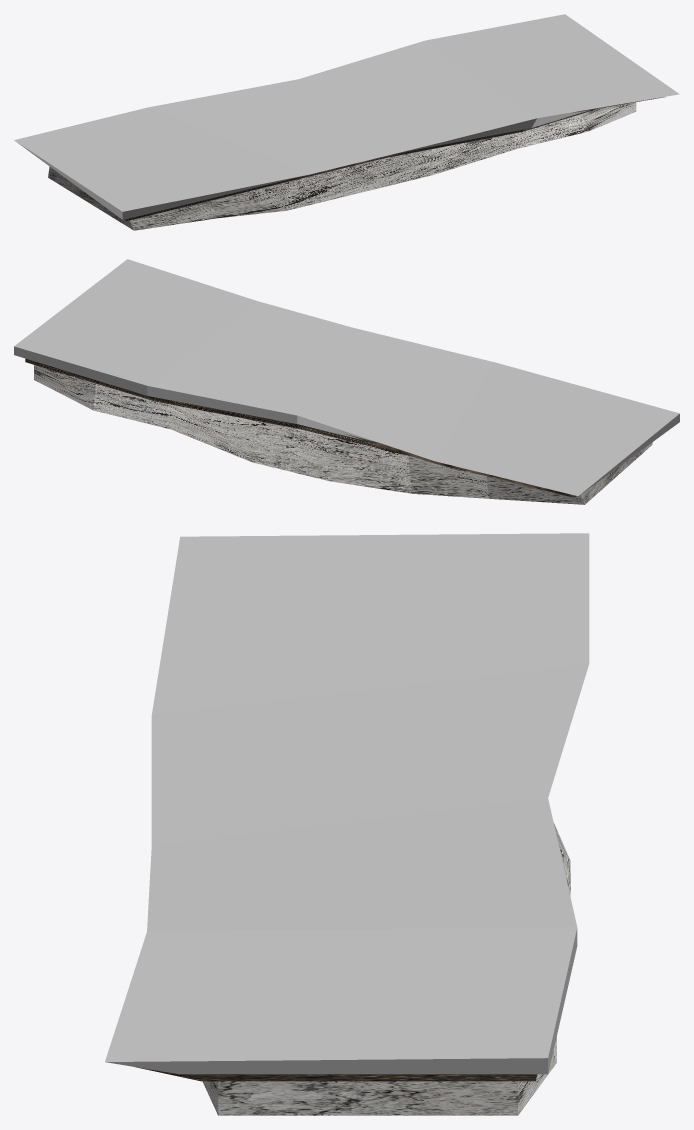
Rendered from platform.fbx.
3 renders of one model, top to bottom at view 1: azimuth 30°, elevation 25°; view 2: azimuth 150°, elevation 25°; view 3: azimuth 270°, elevation 25°, orthographic. The views are drawn at different scales.
Visible parts, largest first — view 1: Kostka, Cube, Kostka.001; view 2: Kostka, Cube, Kostka.001; view 3: Kostka, Cube, Kostka.001.
Part boxes in pixels (x1,y1,x2,y2): Kostka: [14, 14, 679, 219]; Cube: [48, 102, 636, 230]; Kostka.001: [125, 97, 665, 220]; Kostka: [14, 259, 679, 495]; Cube: [34, 365, 652, 504]; Kostka.001: [25, 358, 576, 497]; Kostka: [105, 533, 589, 1074]; Cube: [202, 823, 570, 1115]; Kostka.001: [135, 1067, 537, 1081].
Bounding box in the file's own units: 839 × 73.18 × 323.
